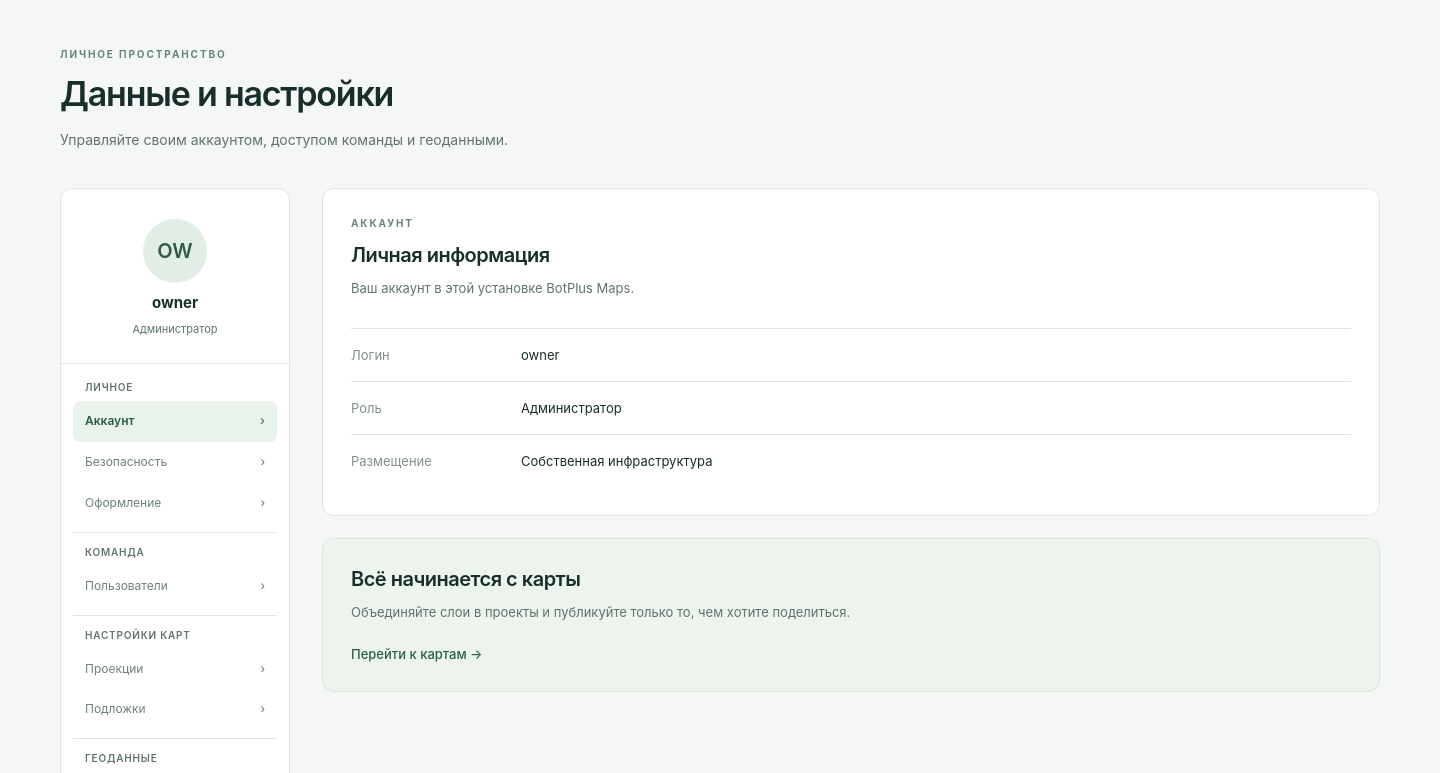
Test: password confirmation prevents an accidental credential change
Click the button "Безопасность ›" at (175, 463), box [73, 442, 277, 483]
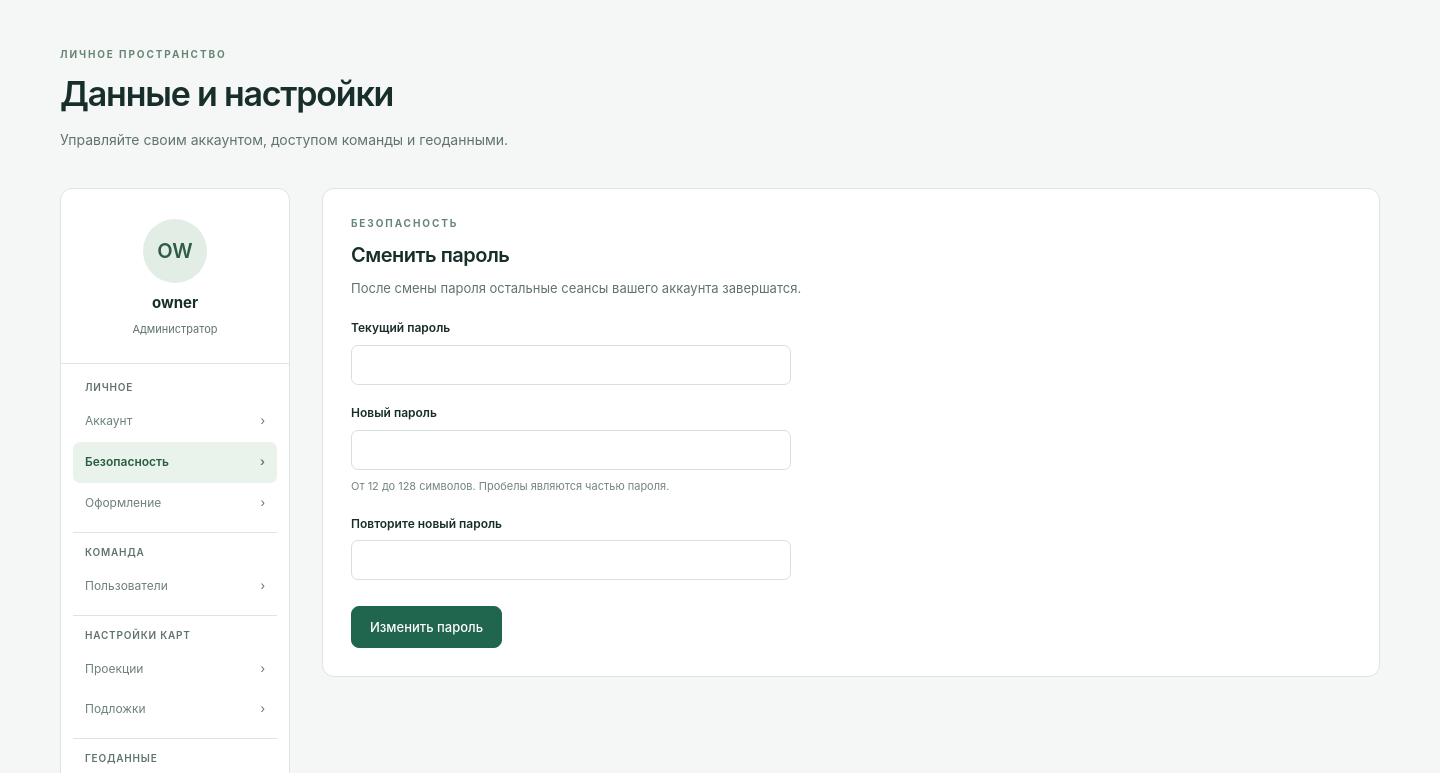
Type "current-password" into the password field labelled "Текущий пароль" at (571, 365), box [351, 345, 791, 385]
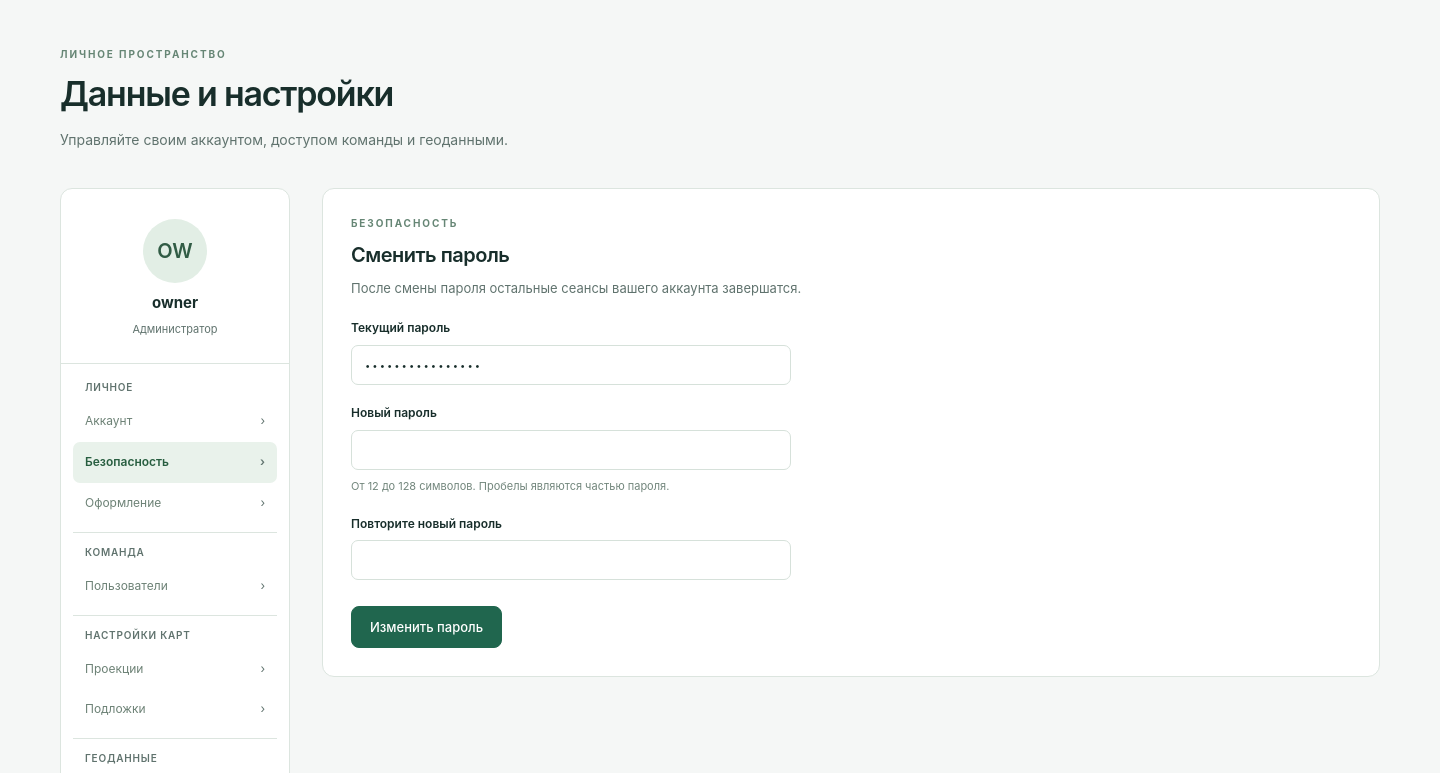
Type "new-test-password" into the password field labelled "Новый пароль" at (571, 450), box [351, 430, 791, 470]
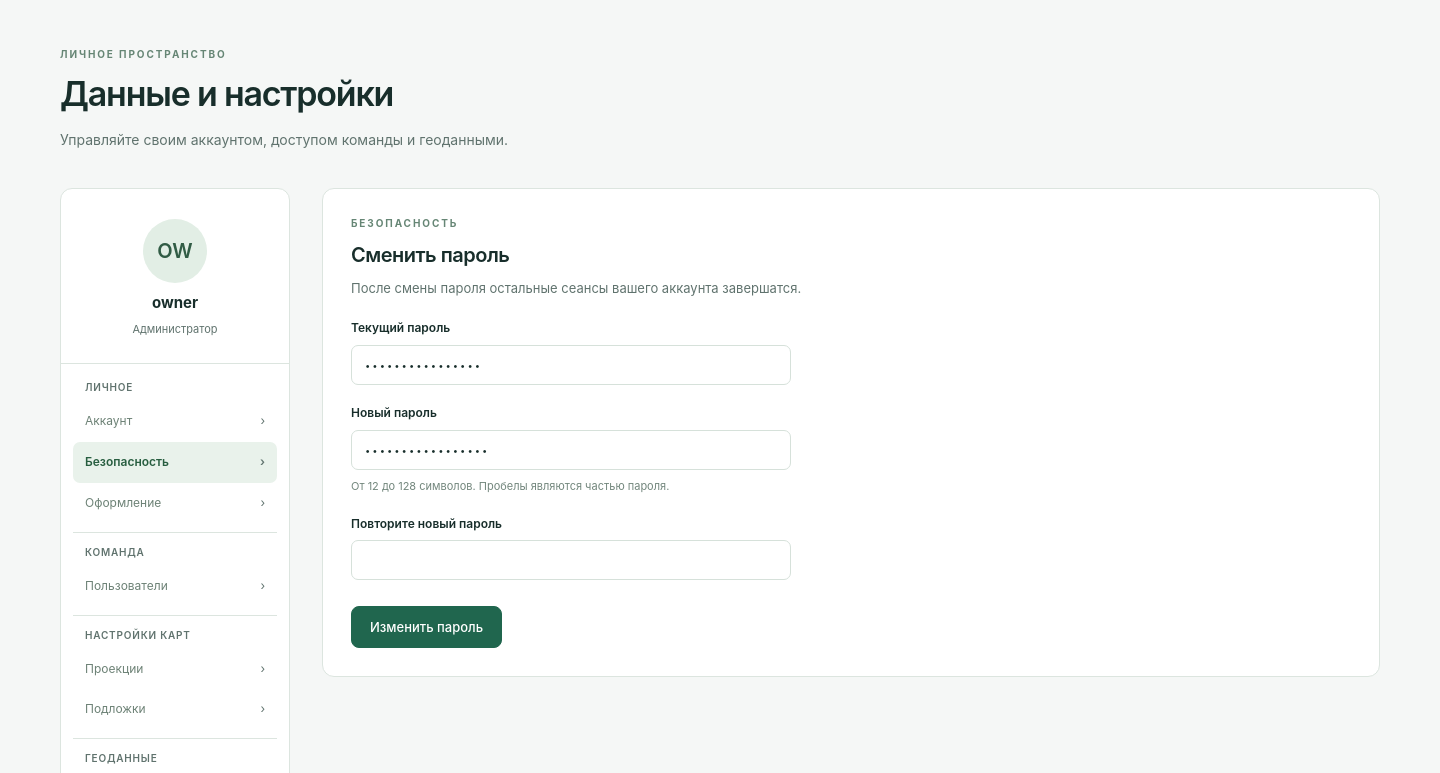
Type "different-password" into the password field labelled "Повторите новый пароль" at (571, 560), box [351, 540, 791, 580]
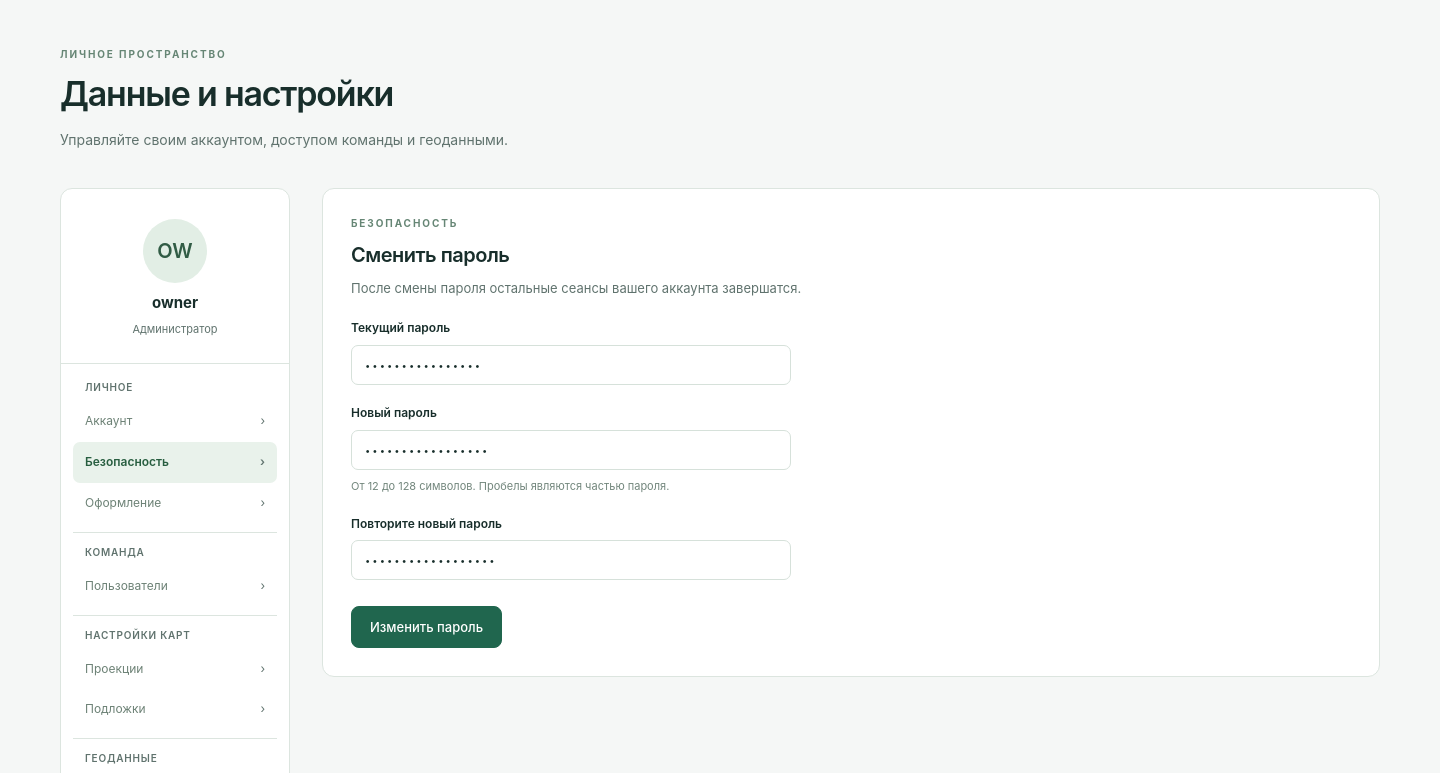
Click the button "Изменить пароль" at (427, 628), box [351, 606, 502, 648]
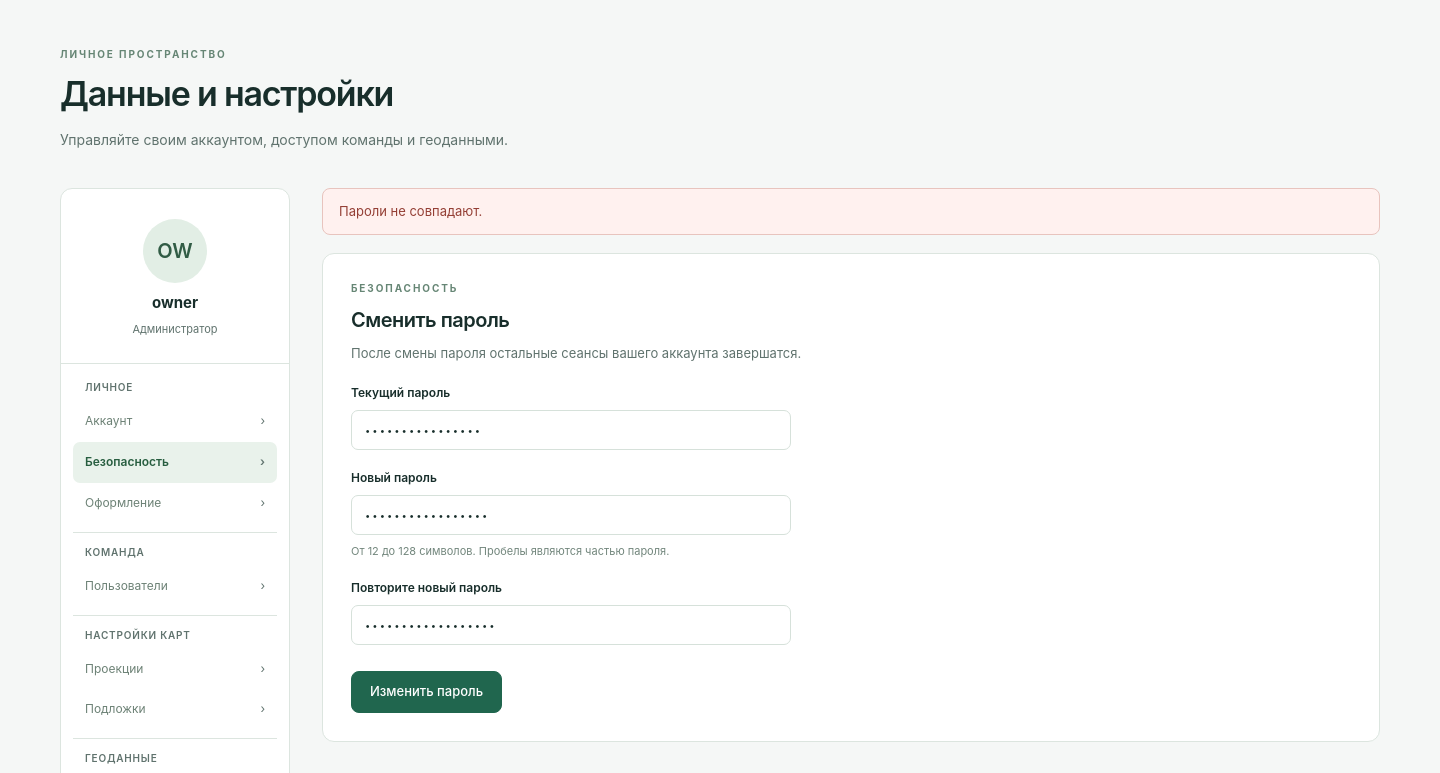
Now the message reads "Пароли не совпадают.", box [339, 203, 482, 219]
